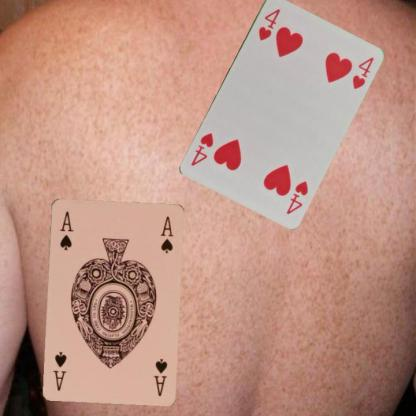4h: (283, 178, 310, 215), (256, 5, 282, 42)
As: (56, 208, 74, 251), (152, 355, 168, 397)
